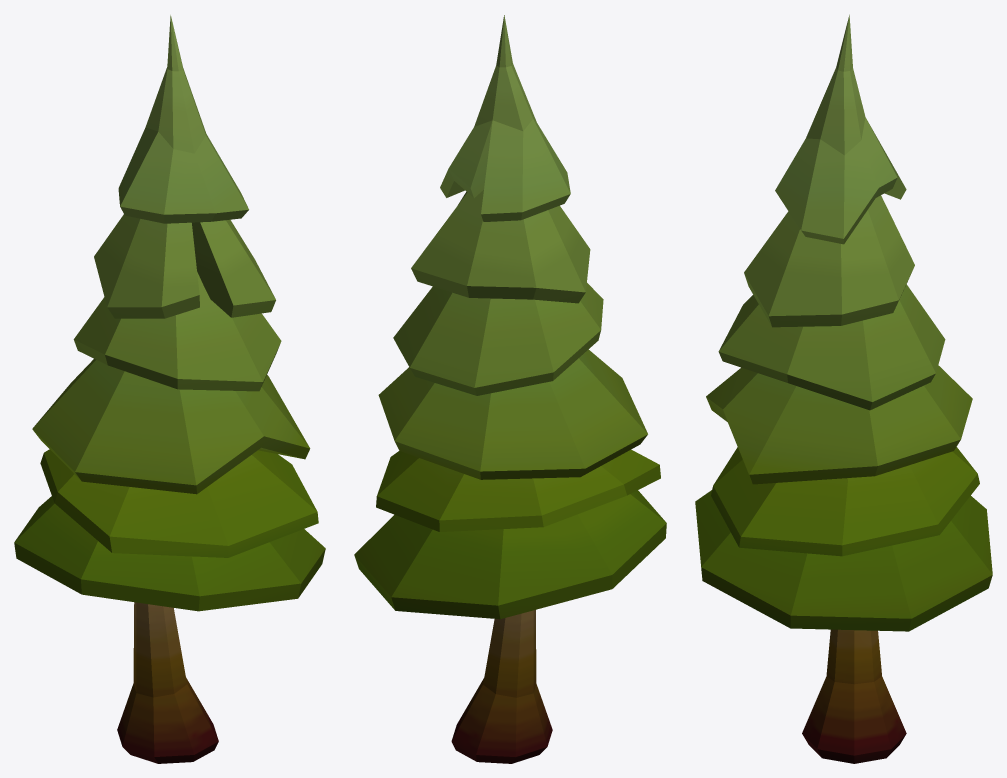
The model's file is SM_Tree_A.glb.
3 views of the same model, side by side, from view 1: azimuth 30°, elevation 25°; view 2: azimuth 150°, elevation 25°; view 3: azimuth 270°, elevation 25° (orthographic).
Visible parts, largest first — view 1: SM_Tree_A; view 2: SM_Tree_A; view 3: SM_Tree_A.
Boxes of the visible parts, box(x1,y1,x2,y2) form: SM_Tree_A: box(14, 15, 325, 763); SM_Tree_A: box(354, 15, 666, 763); SM_Tree_A: box(695, 14, 992, 763).
Size of the model in its own units: 3.47 by 9.42 by 3.48.
1 material, 1 textured.
